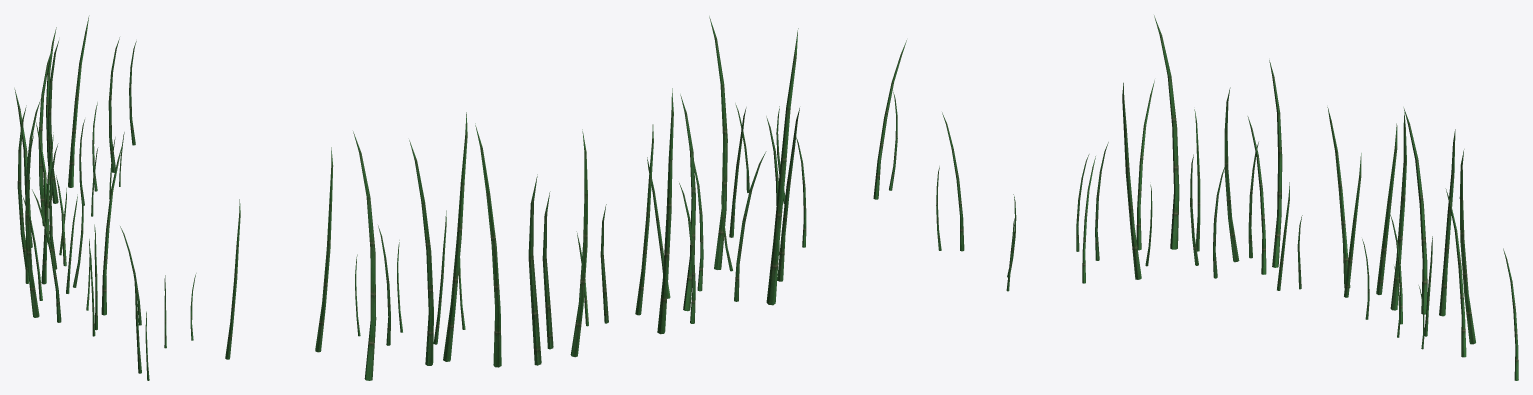
File: Area_06_23.fbx
3 views of the same model, side by side, from view 1: azimuth 30°, elevation 25°; view 2: azimuth 150°, elevation 25°; view 3: azimuth 270°, elevation 25° (orthographic). The views are drawn at different scales.
Visible parts, largest first — view 1: Area_06_23; view 2: Area_06_23; view 3: Area_06_23.
Part boxes in pixels (x1,y1,x2,y2): Area_06_23: [14, 15, 196, 380]; Area_06_23: [225, 16, 906, 380]; Area_06_23: [936, 15, 1518, 380].
Size of the model in its own units: 3086 by 2230 by 5112.
